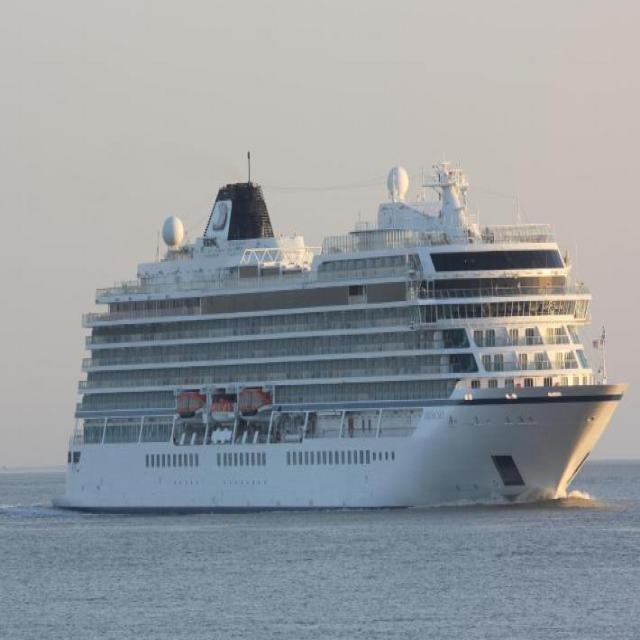cruises: (49, 145, 632, 526)
